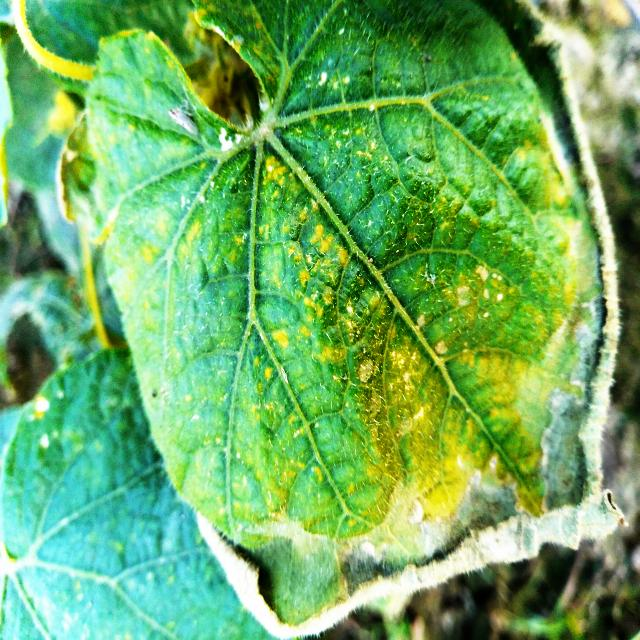Gummy-Stem-Blight: (193, 4, 629, 639)
